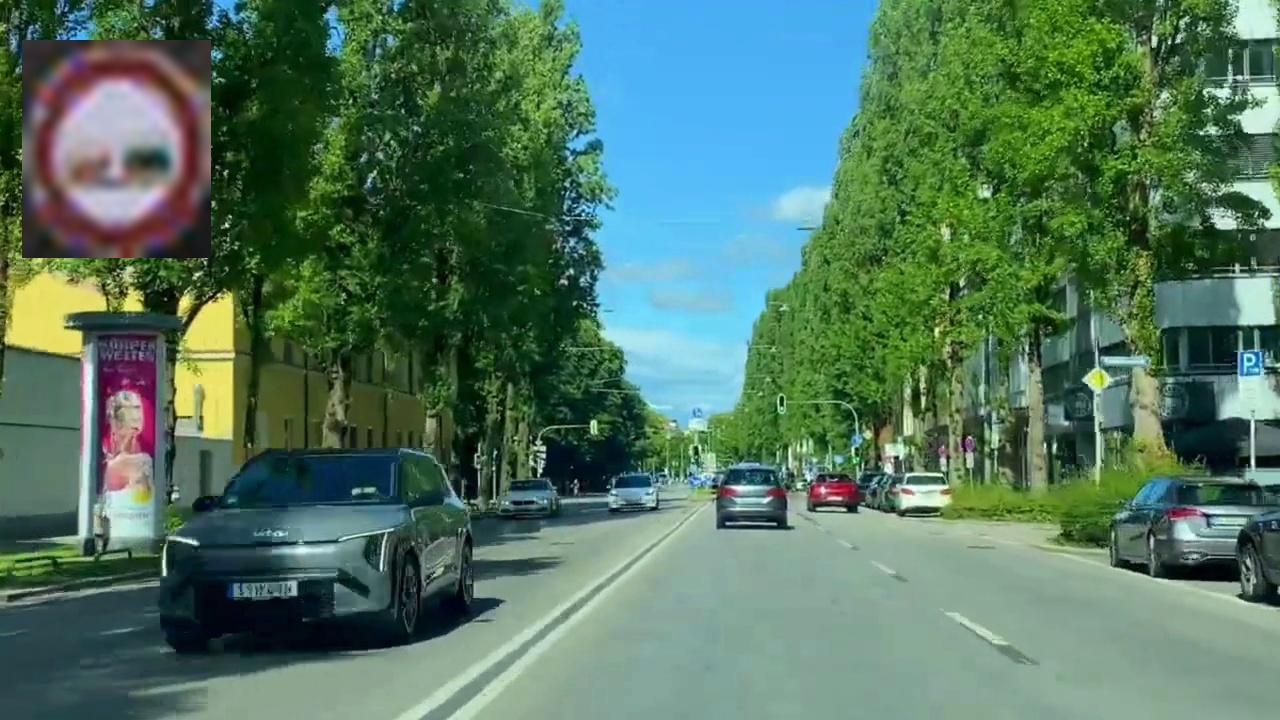No passing: (22, 40, 211, 258)
